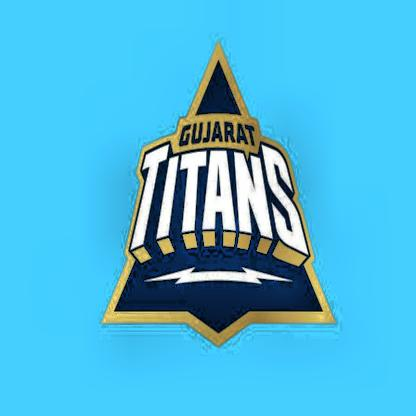Gujarat Titans: (101, 33, 335, 348)
